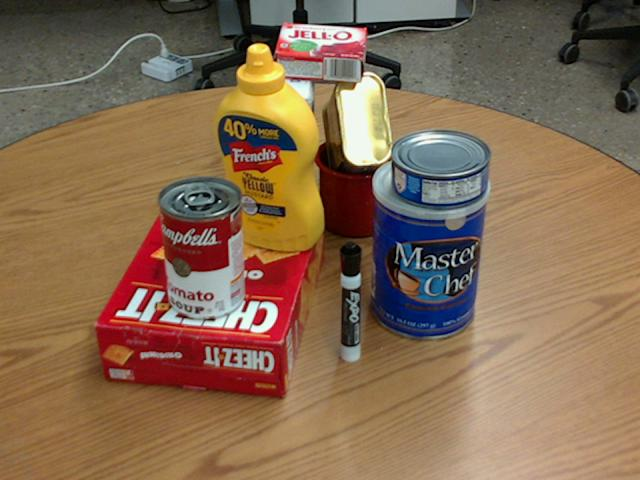cracker_box: (96, 197, 325, 397)
gelatin_box: (271, 24, 366, 82)
large_marker: (340, 241, 361, 362)
master_chef_can: (368, 152, 488, 338)
mug: (316, 133, 419, 235)
mustard_bottle: (212, 43, 322, 249)
potted_meat_can: (321, 73, 392, 189)
sugar_box: (268, 56, 314, 245)
tomato_soup_can: (157, 176, 245, 319)
tuna_fish_can: (390, 129, 490, 207)
